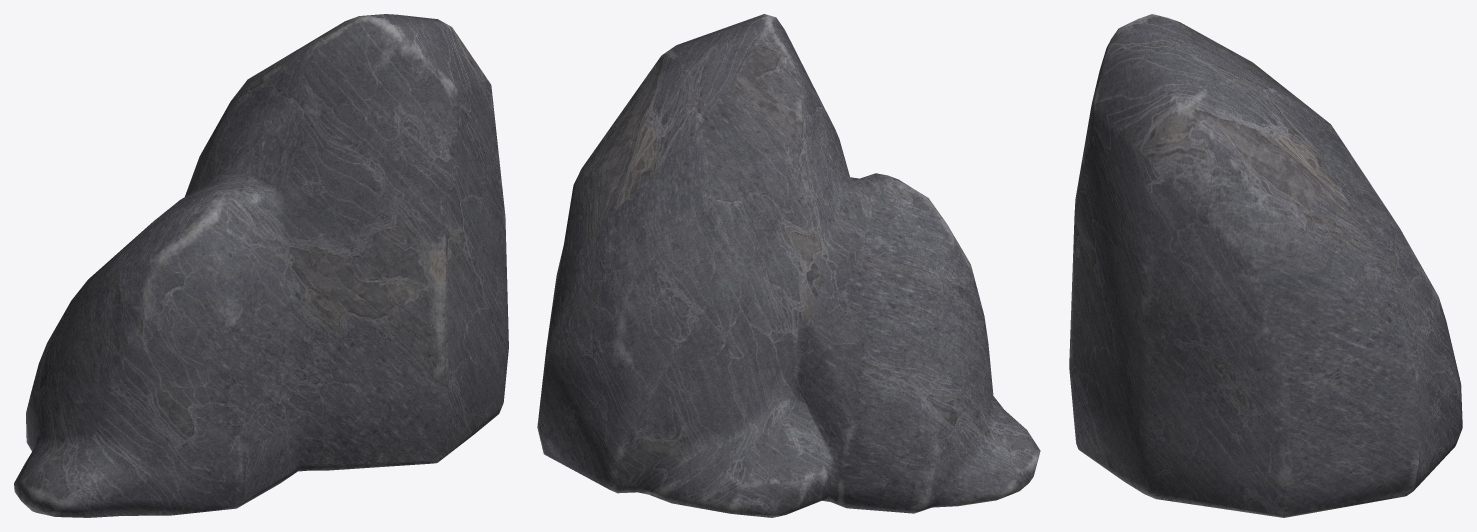
The model's file is RockSculpt.fbx.
3 renders of one model, left to right at view 1: azimuth 30°, elevation 25°; view 2: azimuth 150°, elevation 25°; view 3: azimuth 270°, elevation 25°, orthographic. The views are drawn at different scales.
Visible parts, largest first — view 1: Rock.Gigh.001; view 2: Rock.Gigh.001; view 3: Rock.Gigh.001.
Part boxes in pixels (x1,y1,x2,y2): Rock.Gigh.001: (14,14,508,517); Rock.Gigh.001: (537,14,1040,517); Rock.Gigh.001: (1069,14,1462,517).
Size of the model in its own units: 734 by 630 by 510.
